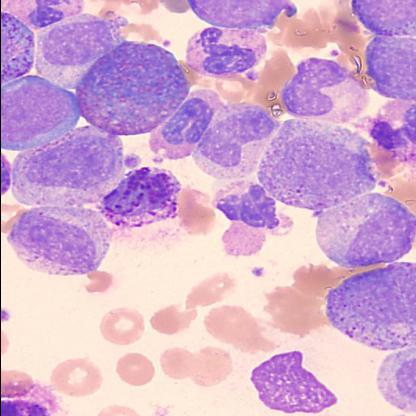Promyelocyte: (9, 130, 132, 210), (323, 262, 415, 356), (6, 206, 112, 279)
